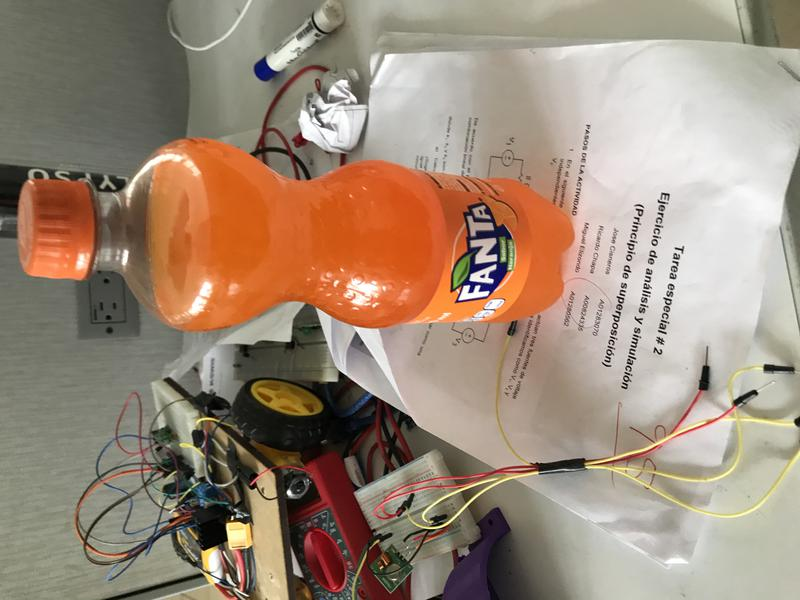fanta: (15, 137, 575, 330)
